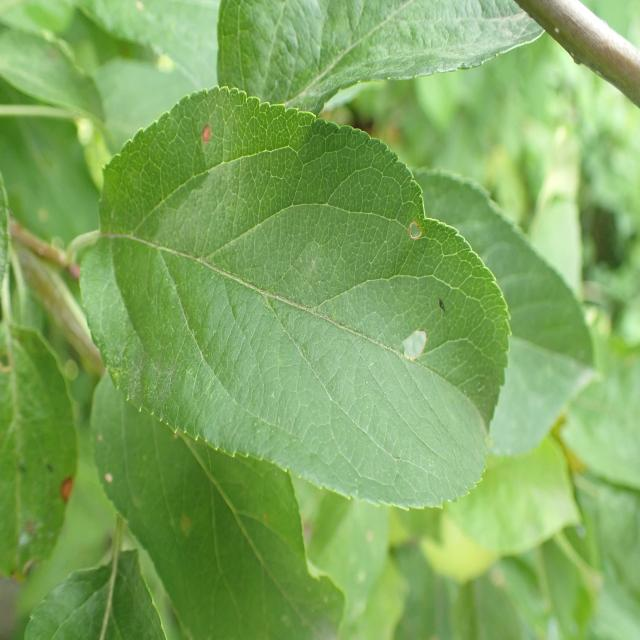Black Rot: (382, 311, 446, 376), (187, 108, 225, 165), (403, 205, 440, 261)
